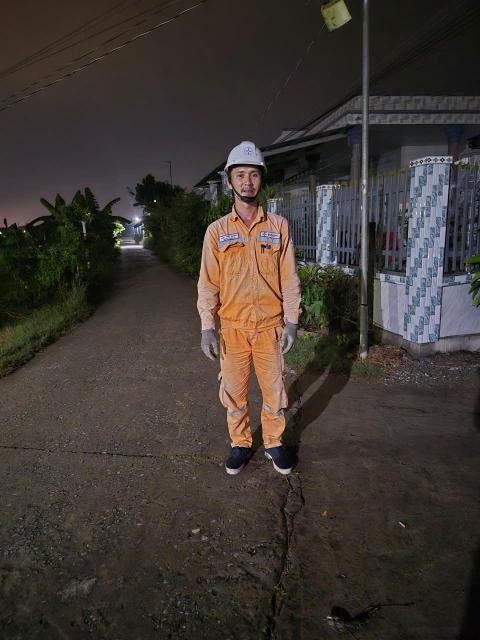gloves: (190, 320, 227, 363), (276, 318, 302, 360)
helmet: (218, 142, 278, 177)
shoes: (222, 444, 259, 484), (262, 444, 297, 477)
